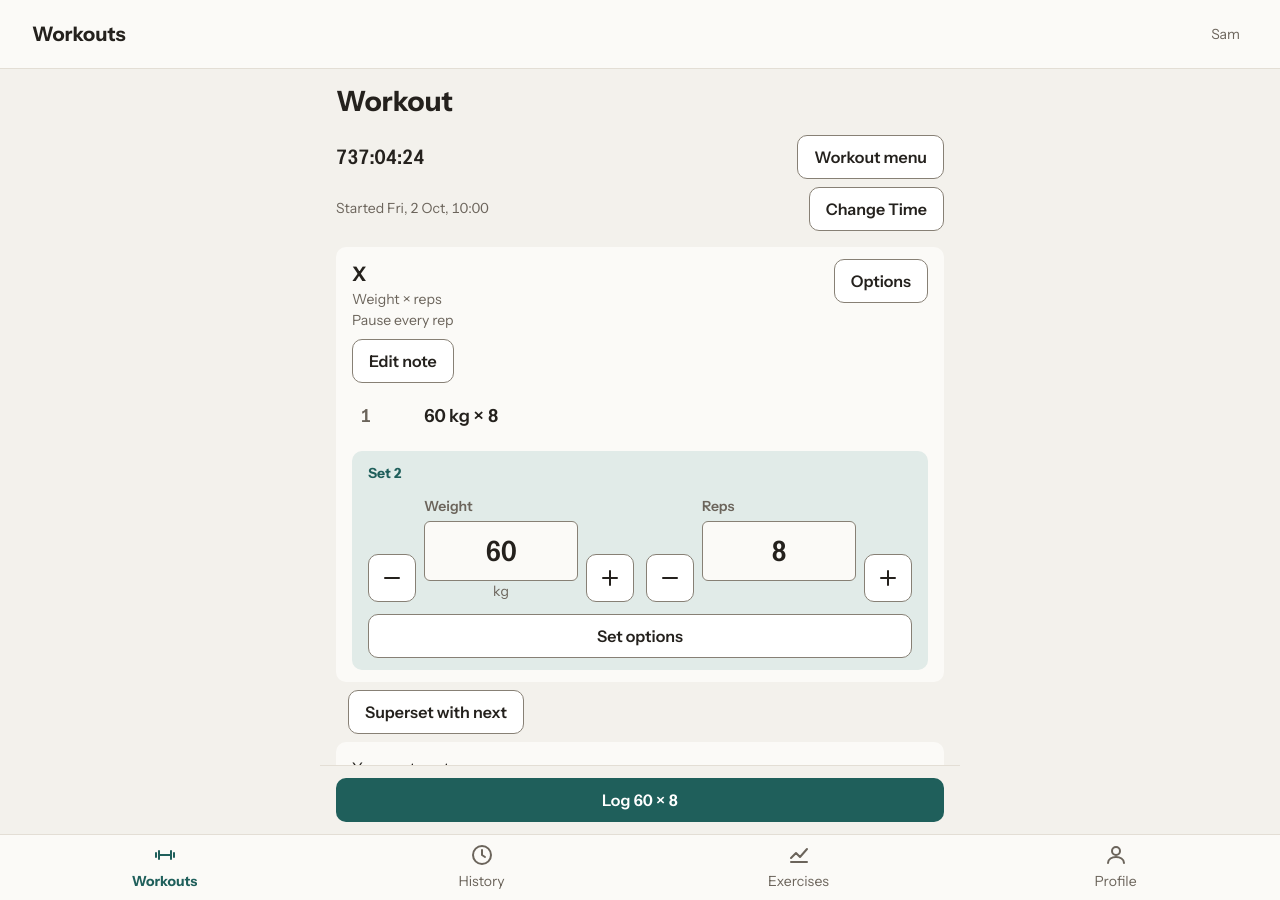
Scenario: 10.3 AC27 — the Note action and sheet › Cancel closes without a request; a finished workout has no Note action (covered in the summary suite)
This screenshot has width=1280, height=900.
Expected: the heading "Workout" is shown, [336, 84, 453, 118]
Click the button with aria-label "Edit note for X" at (403, 361), box [352, 339, 454, 383]
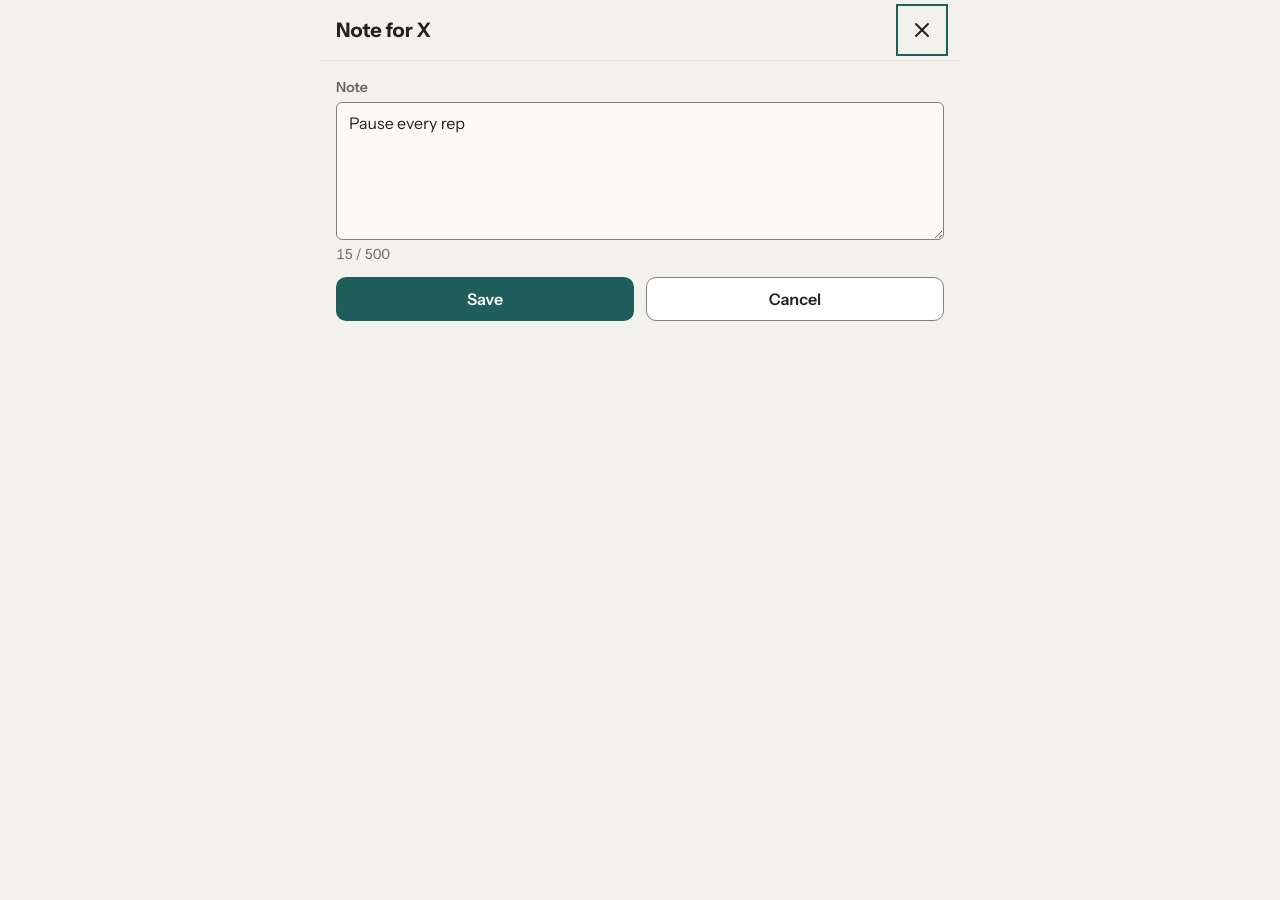
Click the button "Cancel" at (795, 299), box [646, 277, 944, 321]
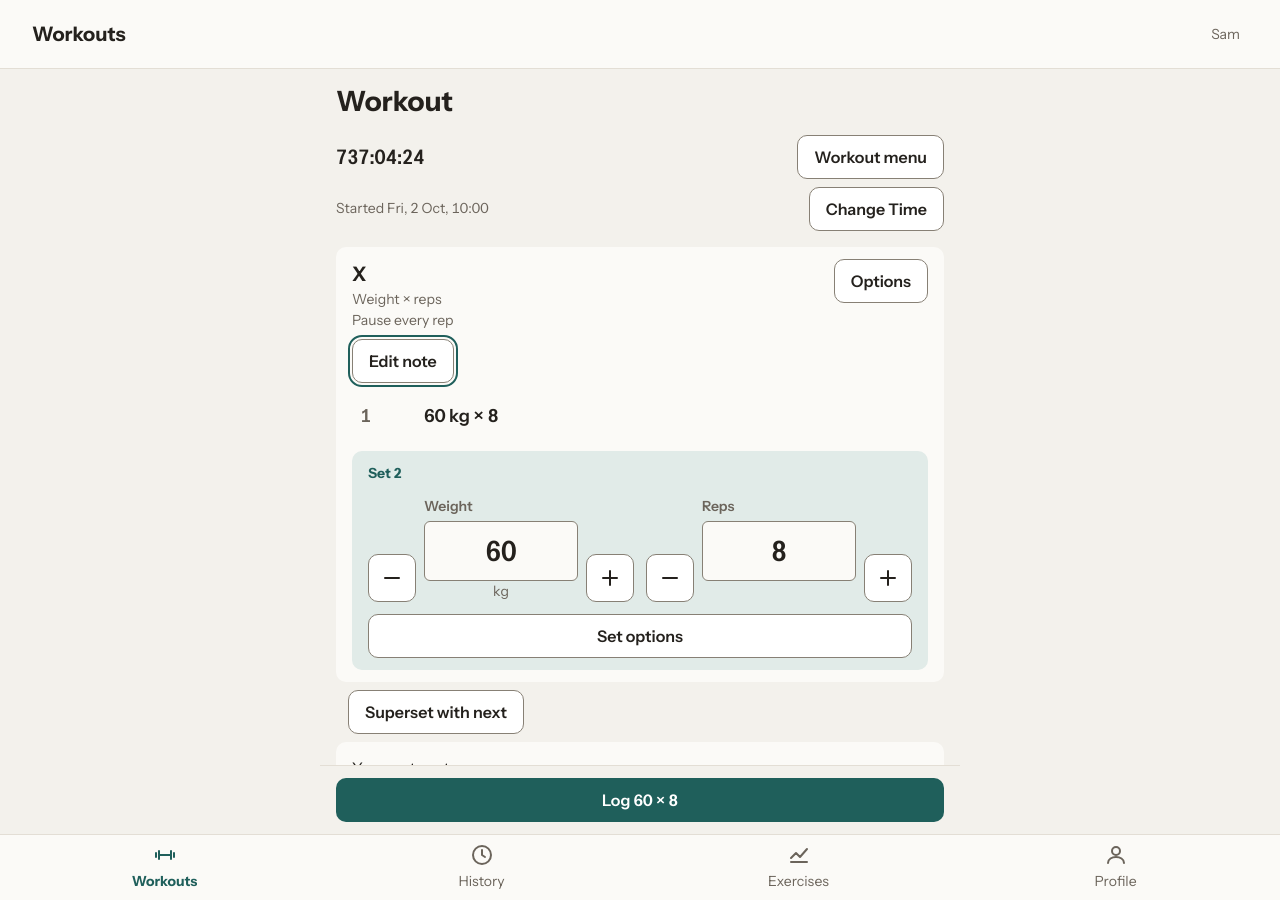
Result: the heading "Note for" is gone
